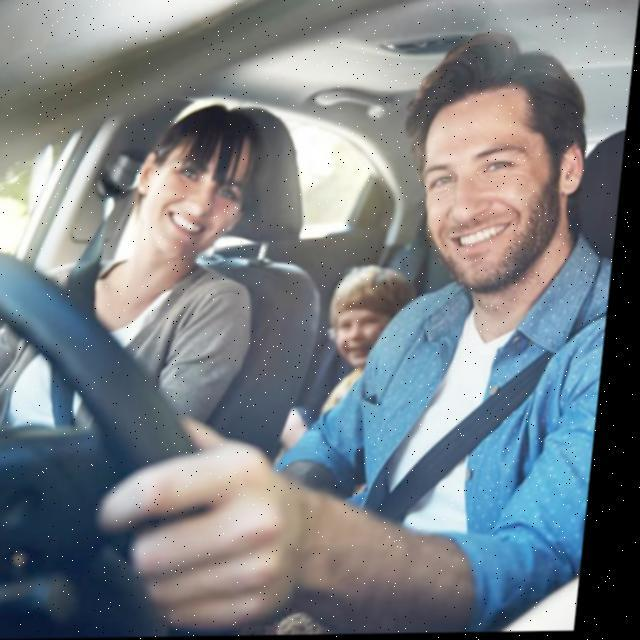seatbelt: (350, 267, 617, 549)
